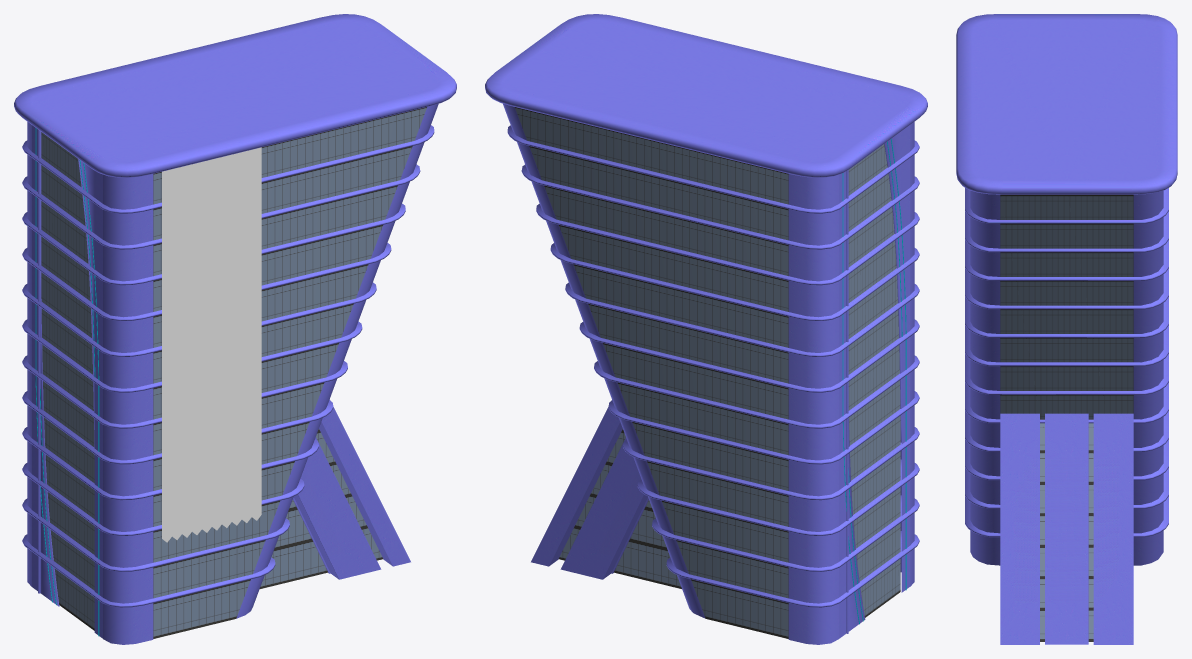
File: Building_Kyowon_001_2st_L1.fbx
3 views of the same model, side by side, from view 1: azimuth 30°, elevation 25°; view 2: azimuth 150°, elevation 25°; view 3: azimuth 270°, elevation 25° (orthographic).
Visible parts, largest first — view 1: Building_Kyowon_001_2st_L1; view 2: Building_Kyowon_001_2st_L1; view 3: Building_Kyowon_001_2st_L1.
Part boxes in pixels (x1,y1,x2,y2): Building_Kyowon_001_2st_L1: (14,14,456,644); Building_Kyowon_001_2st_L1: (485,14,927,644); Building_Kyowon_001_2st_L1: (956,14,1177,644).
Bounding box in the file's own units: 50.91 × 27.35 × 65.34.
